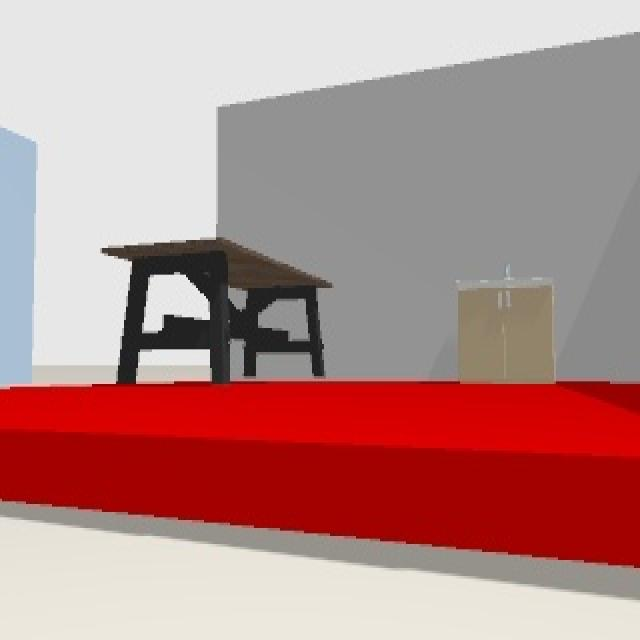dining: (100, 229, 330, 385)
